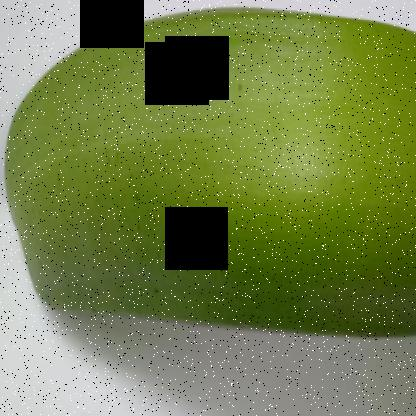freshunripe: (2, 1, 416, 345)
